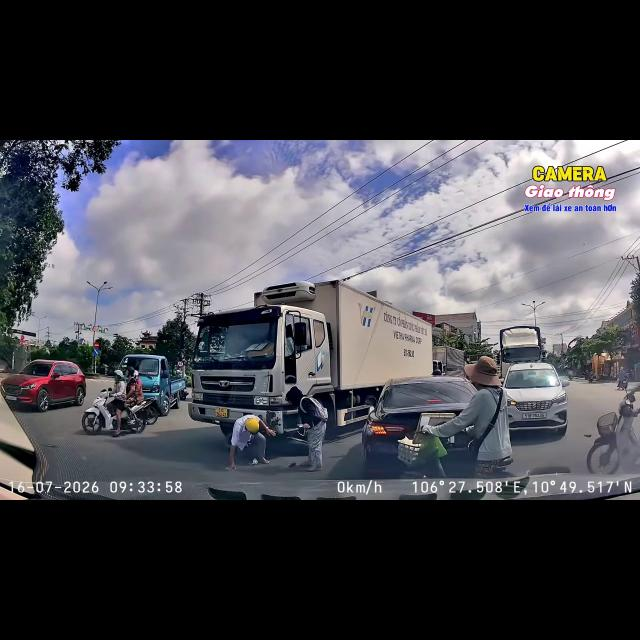car: (361, 376, 476, 475), (504, 363, 570, 436), (0, 360, 86, 412)
motorcycle: (587, 393, 635, 474), (82, 389, 116, 434)
truck: (189, 281, 432, 437), (119, 354, 186, 416), (499, 326, 543, 375), (433, 346, 464, 376)
